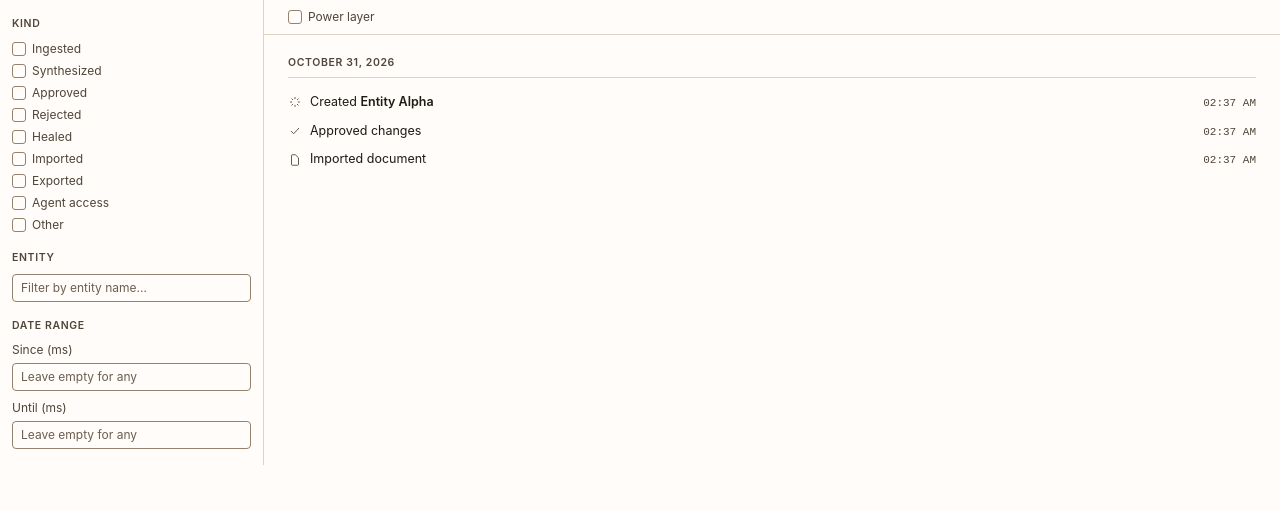
Test case: TimelineMode › entity_filter_narrows_displayed_events_client_side
This screenshot has width=1280, height=510.
Expected: the text "Created" is shown, [310,94,360,109]
Note: Filter for "Alpha"
Type "Alpha" into the field with placeholder "Filter by entity name…" at [132, 288], box [12,274,251,302]
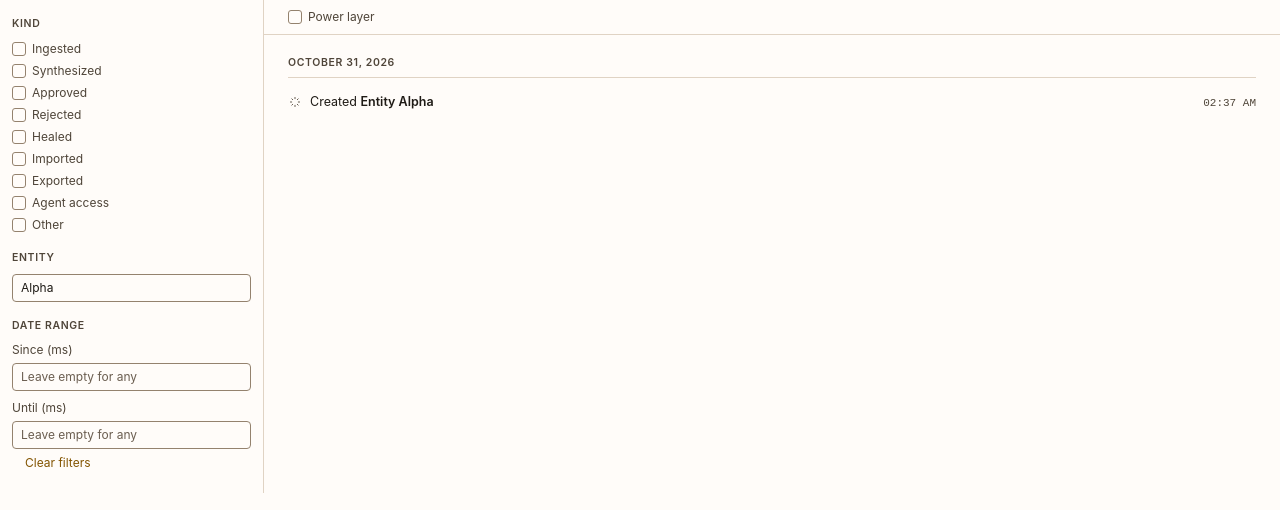
Expected: the text "Created" is shown, [310,94,360,109]
Now the button "Approved changes" is gone
